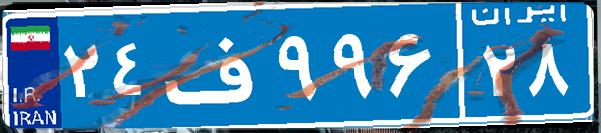2: (57, 26, 110, 107), (475, 38, 525, 113)
4: (110, 28, 158, 105)
6: (385, 28, 445, 110)
8: (525, 38, 570, 115)
9: (273, 28, 330, 110), (330, 28, 385, 110)
ف: (158, 15, 273, 115)
